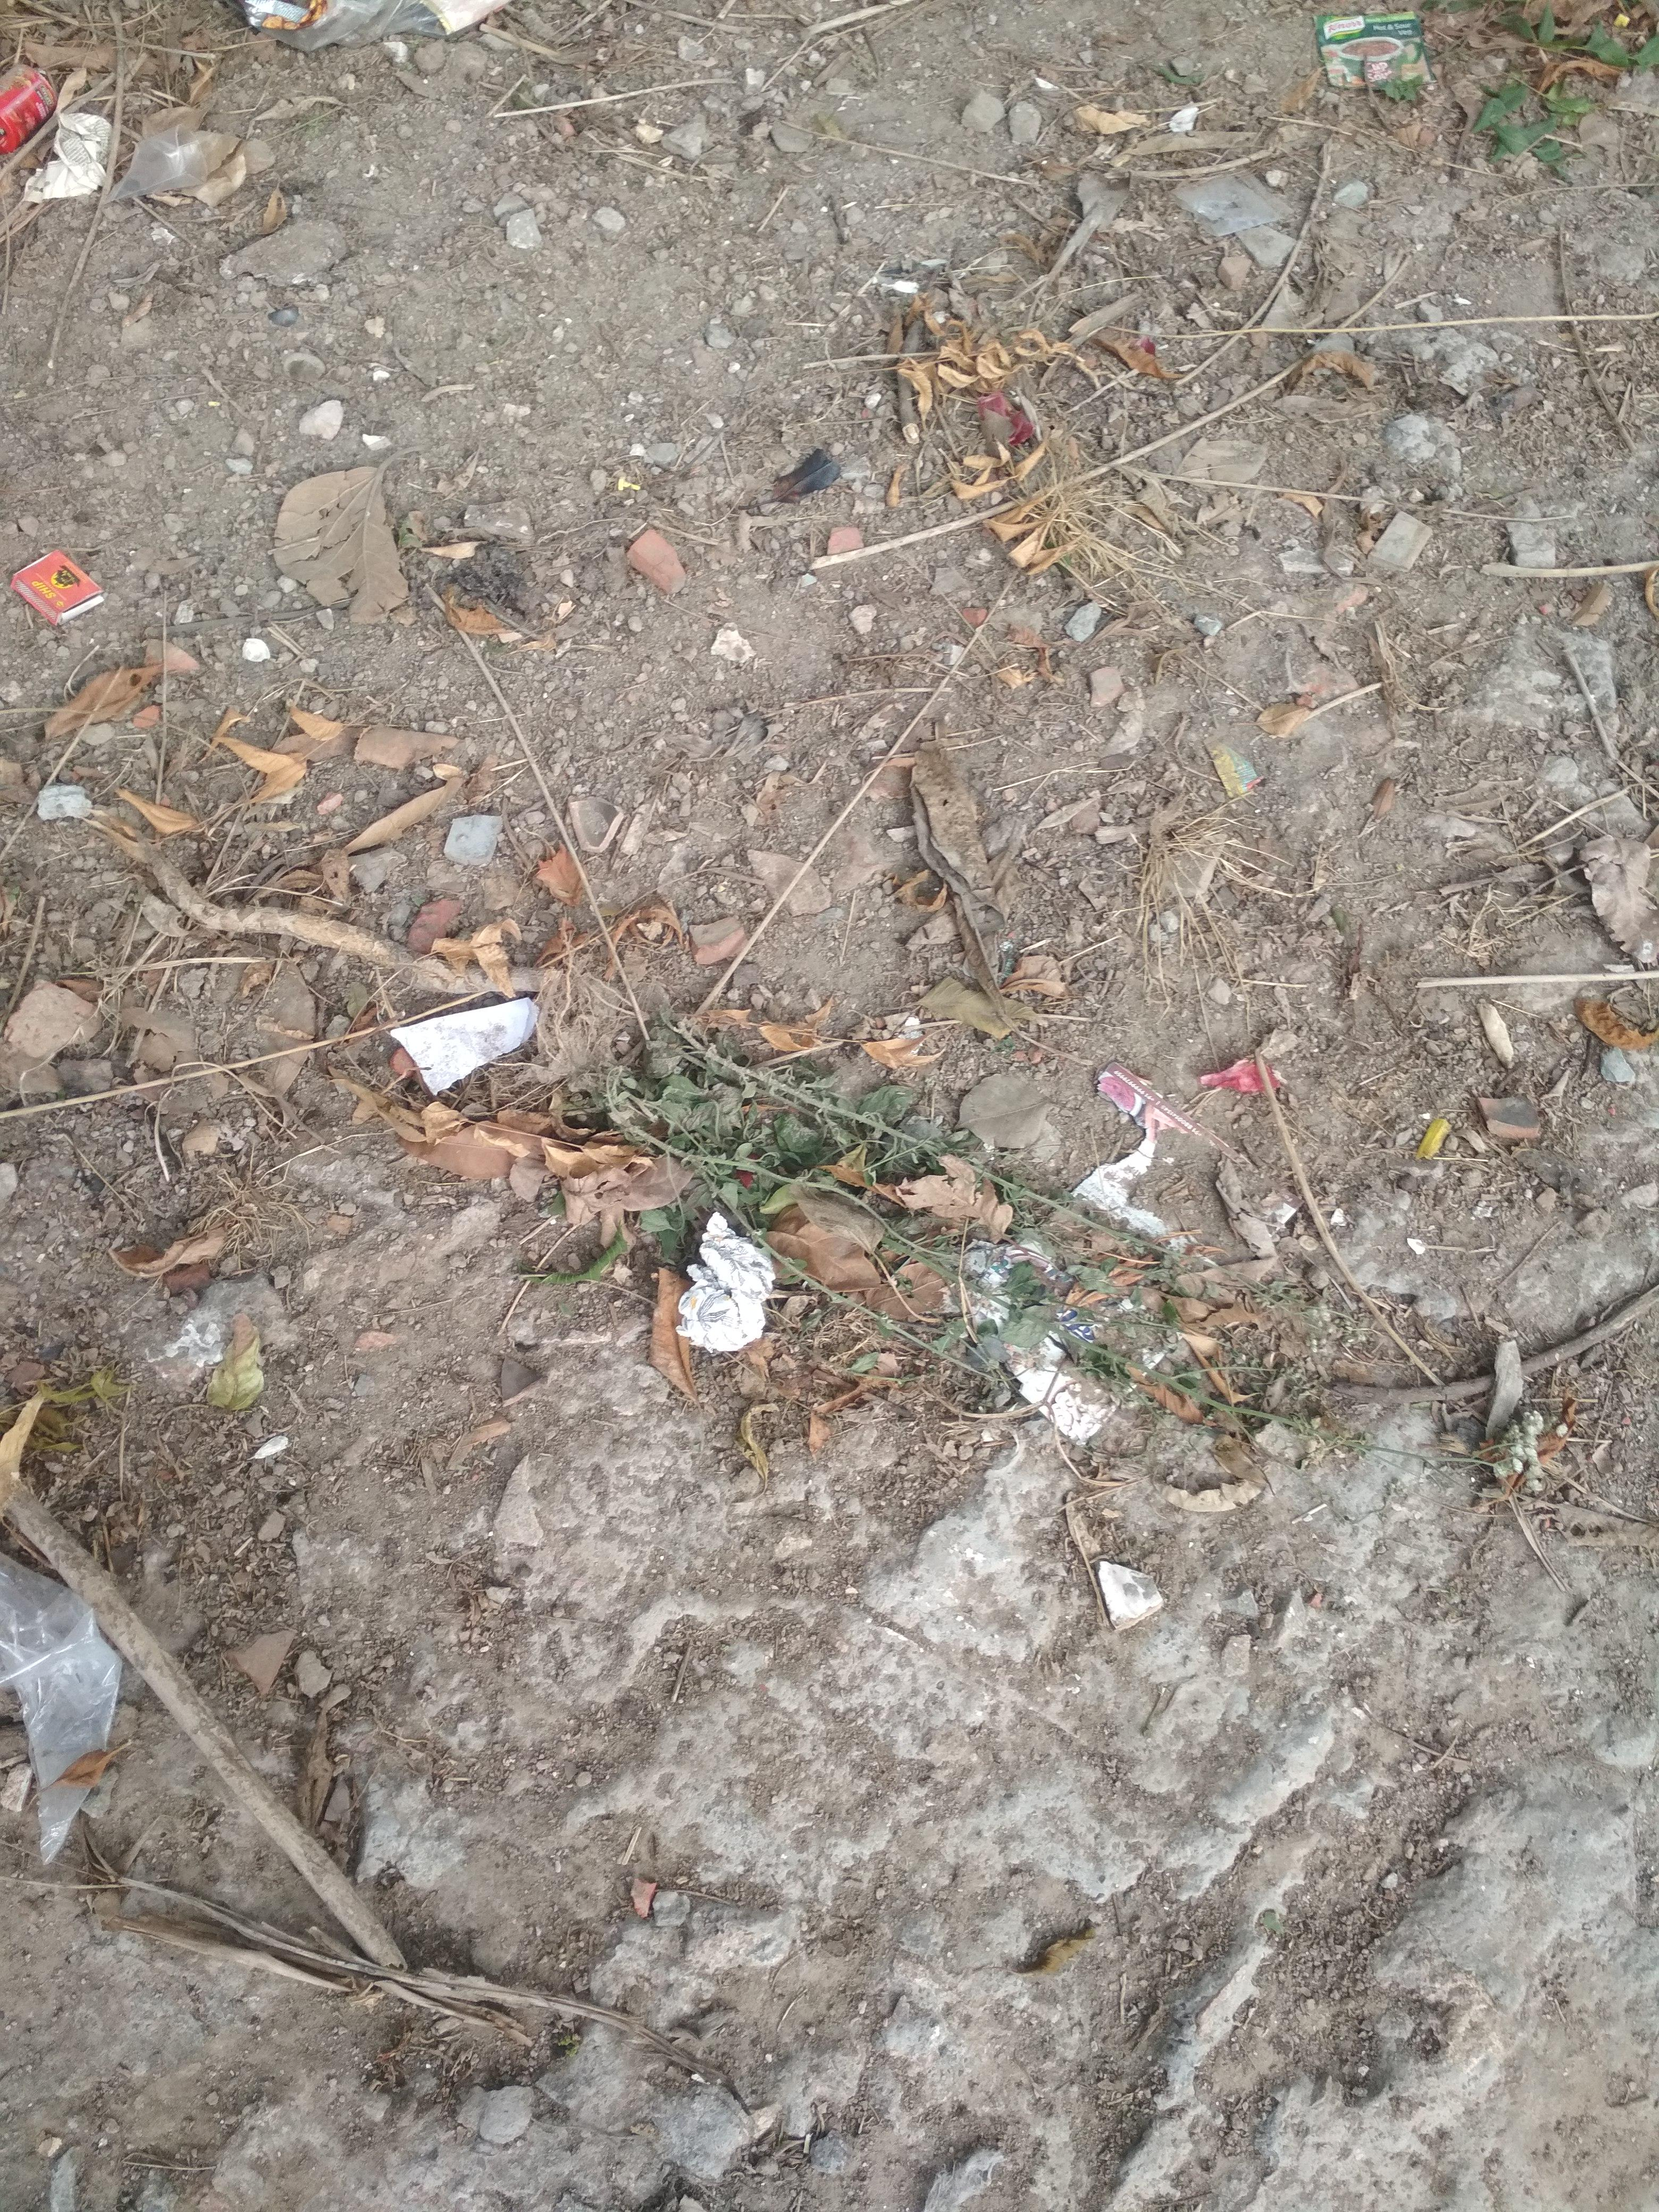trash: (0, 1433, 157, 1905)
